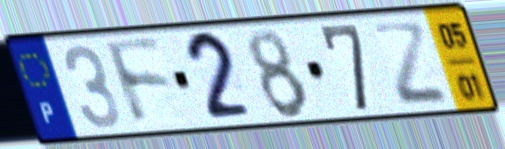2: (180, 28, 262, 128)
3: (62, 42, 121, 130)
7: (317, 23, 371, 114)
8: (244, 26, 311, 120)
F: (100, 36, 176, 130)
Z: (368, 21, 452, 109)
